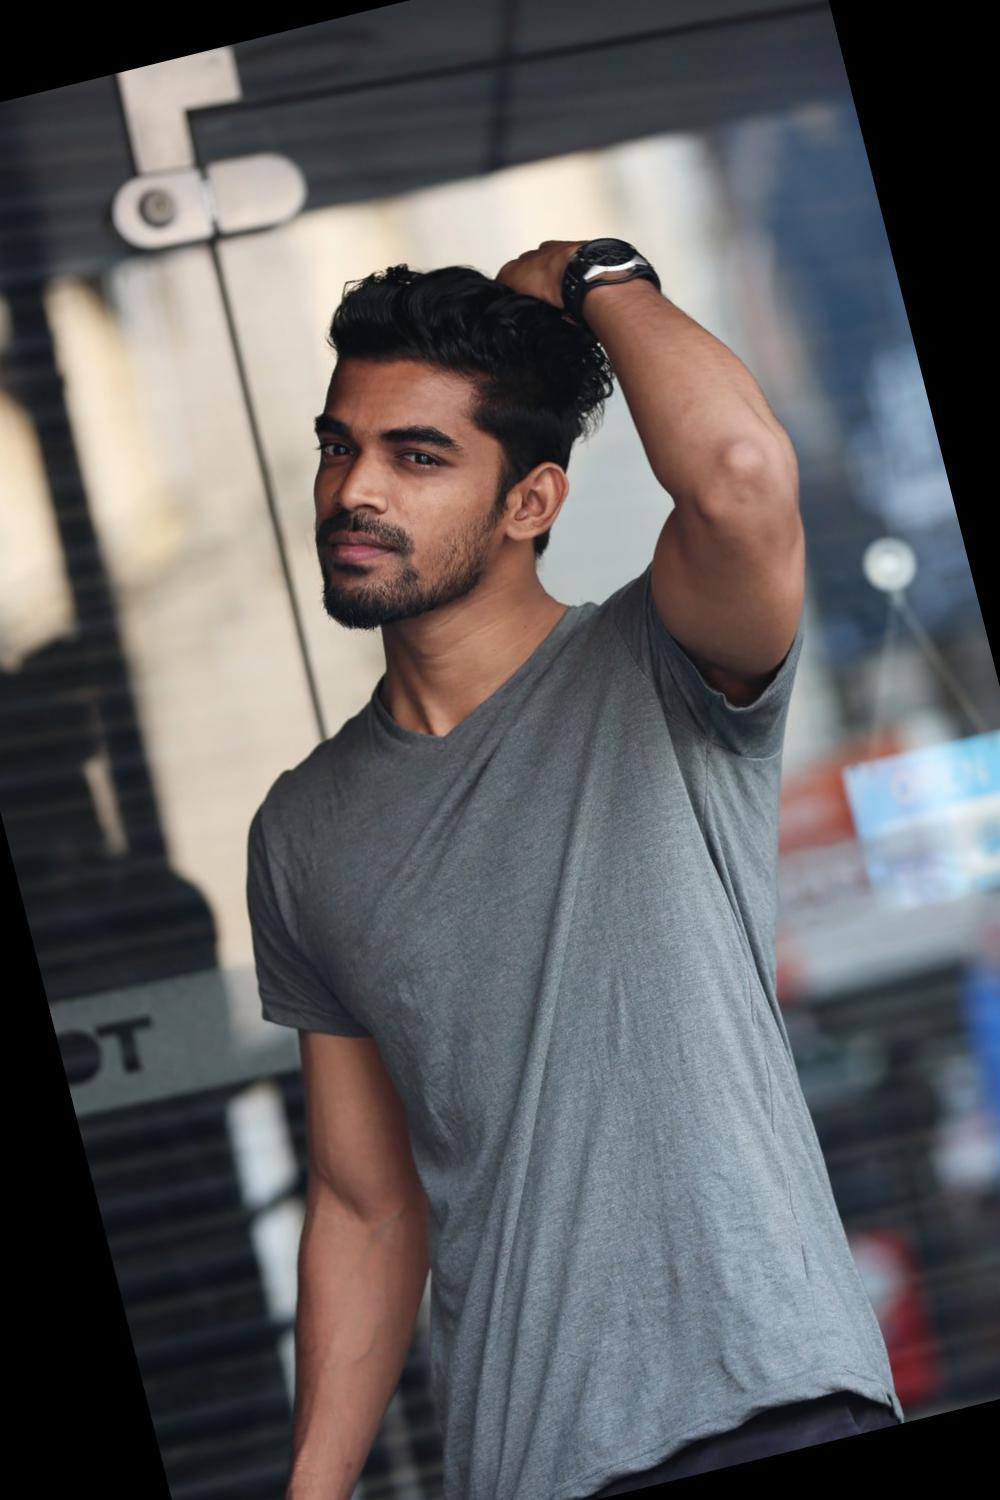Sober: (311, 374, 499, 608)
